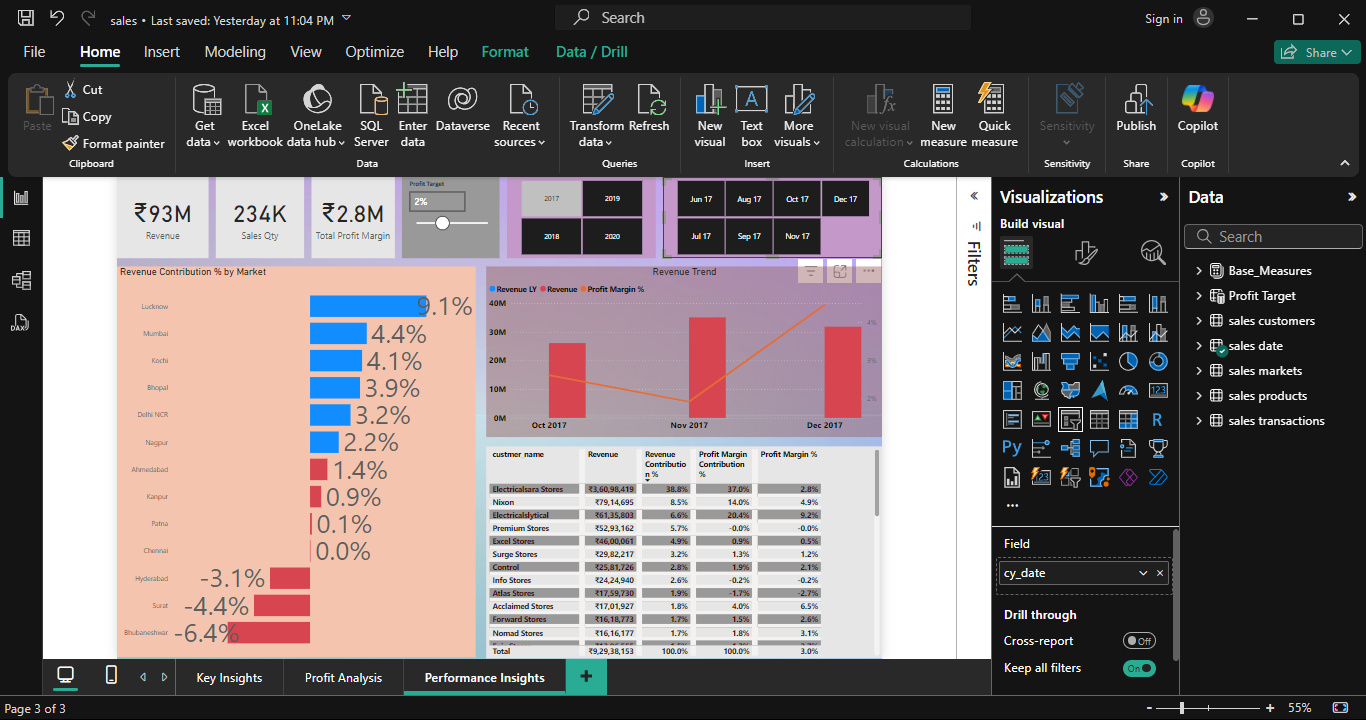

The page's visual inventory and layout, read from the dashboard file:
{"tool":"powerbi","page":{"name":"Performance Insights","canvas":[1350,850],"ordinal":2},"visuals":[{"type":"card","fields":{"Values":["BaseMeasures (2).Revenue"]},"box":[0,0,161.4,143.1],"z":0},{"type":"card","fields":{"Values":["BaseMeasures (2).Sales Qty"]},"box":[174.3,0,155.9,143.1],"z":1000},{"type":"slicer","fields":{"Values":["sales date.year"]},"box":[688,0,262.3,143.1],"z":2000},{"type":"slicer","fields":{"Values":["sales date.cy_date"]},"box":[963.1,0,387.1,143.1],"z":3000},{"type":"tableEx","title":"Top 5 Customers","fields":{"Values":["sales customers.custmer_name","BaseMeasures (2).Revenue","BaseMeasures (2).Revenue Contribution %","BaseMeasures (2).Profit Margin Contribution %","BaseMeasures (2).Profit Margin %"]},"box":[651.3,475.1,699,374.2],"z":4000},{"type":"lineClusteredColumnComboChart","title":"Revenue Trend","fields":{"Category":["sales date.cy_date"],"Y":["BaseMeasures (2).Revenue LY","BaseMeasures (2).Revenue"],"Y2":["BaseMeasures (2).Profit Margin %"]},"box":[651.3,157.8,699,300.9],"z":5000},{"type":"card","fields":{"Values":["BaseMeasures (2).Total Profit Margin"]},"box":[343.1,0,146.8,143.1],"z":6000},{"type":"barChart","title":"Revenue Contribution % by Market","fields":{"Y":["BaseMeasures (2).Profit Margin %"],"Category":["sales markets.zone","sales markets.markets_name","sales customers.custmer_name","sales products.product_code"]},"box":[0,157.8,632.9,689.8],"z":7000},{"type":"slicer","fields":{"Values":["Profit Target.Profit Target"]},"box":[502.7,0,172.4,143.1],"z":8000}]}

Visuals, with their boxes on the page's 1350x850 design canvas (x1, y1, x2, y2). These are canvas units, not pixel positions in the 1366x720 screenshot, which may show the page scaled, cropped or inside an application window:
card - BaseMeasures (2).Revenue: 0/0/161/143
card - BaseMeasures (2).Sales Qty: 174/0/330/143
slicer - sales date.year: 688/0/950/143
slicer - sales date.cy_date: 963/0/1350/143
"Top 5 Customers" tableEx: 651/475/1350/849
"Revenue Trend" lineClusteredColumnComboChart: 651/158/1350/459
card - BaseMeasures (2).Total Profit Margin: 343/0/490/143
"Revenue Contribution % by Market" barChart: 0/158/633/848
slicer - Profit Target.Profit Target: 503/0/675/143
